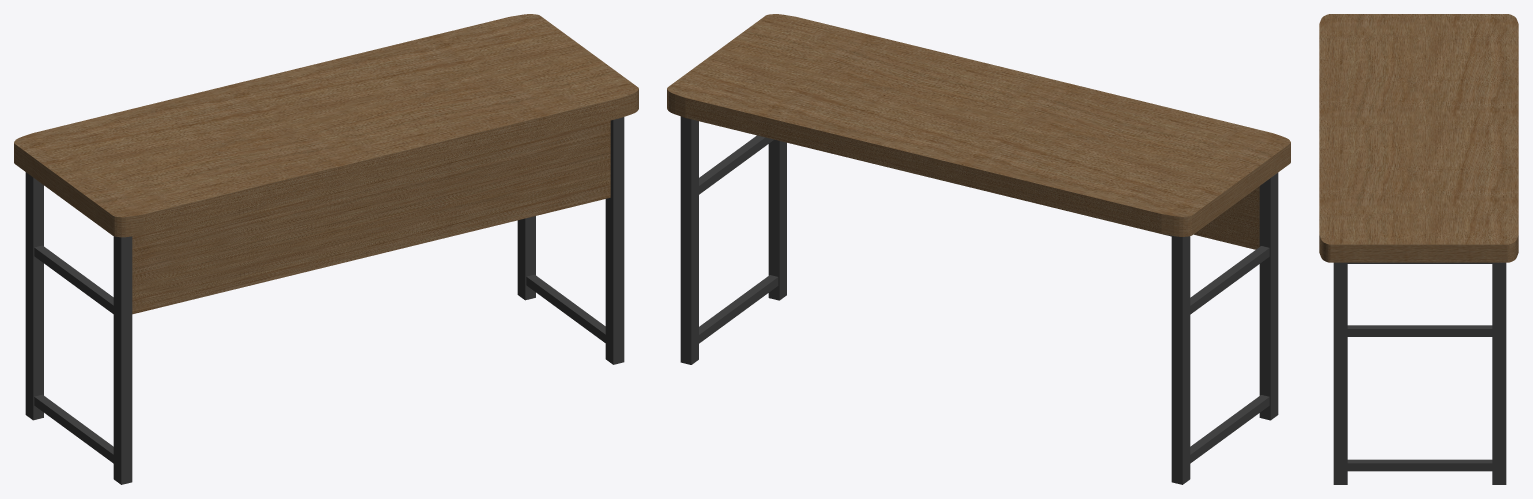
Rendered from table1.fbx.
3 renders of one model, left to right at view 1: azimuth 30°, elevation 25°; view 2: azimuth 150°, elevation 25°; view 3: azimuth 270°, elevation 25°, orthographic. The views are drawn at different scales.
Parts seen in each view (by area): view 1: Cube; view 2: Cube; view 3: Cube.
Boxes of the visible parts, bbox=[...] form: Cube: bbox=[14, 14, 638, 484]; Cube: bbox=[667, 14, 1290, 484]; Cube: bbox=[1319, 14, 1518, 484].
Bounding box in the file's own units: 148 × 73.58 × 54.18.
2 materials, 1 textured.
